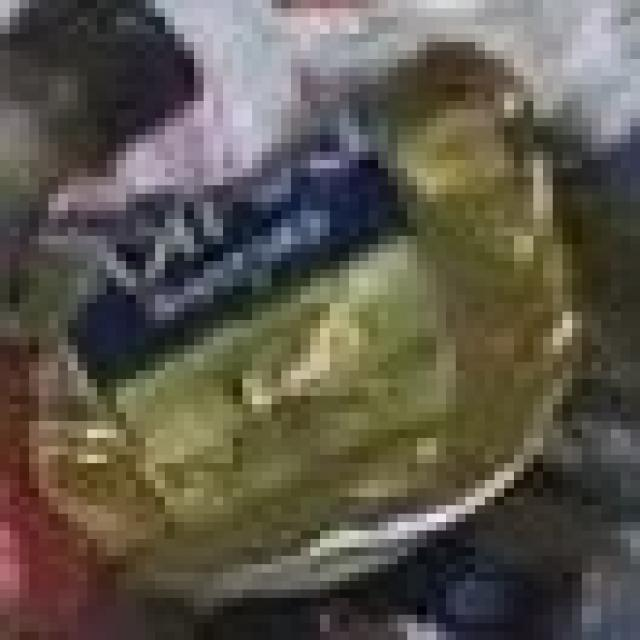can: (12, 0, 621, 640)
